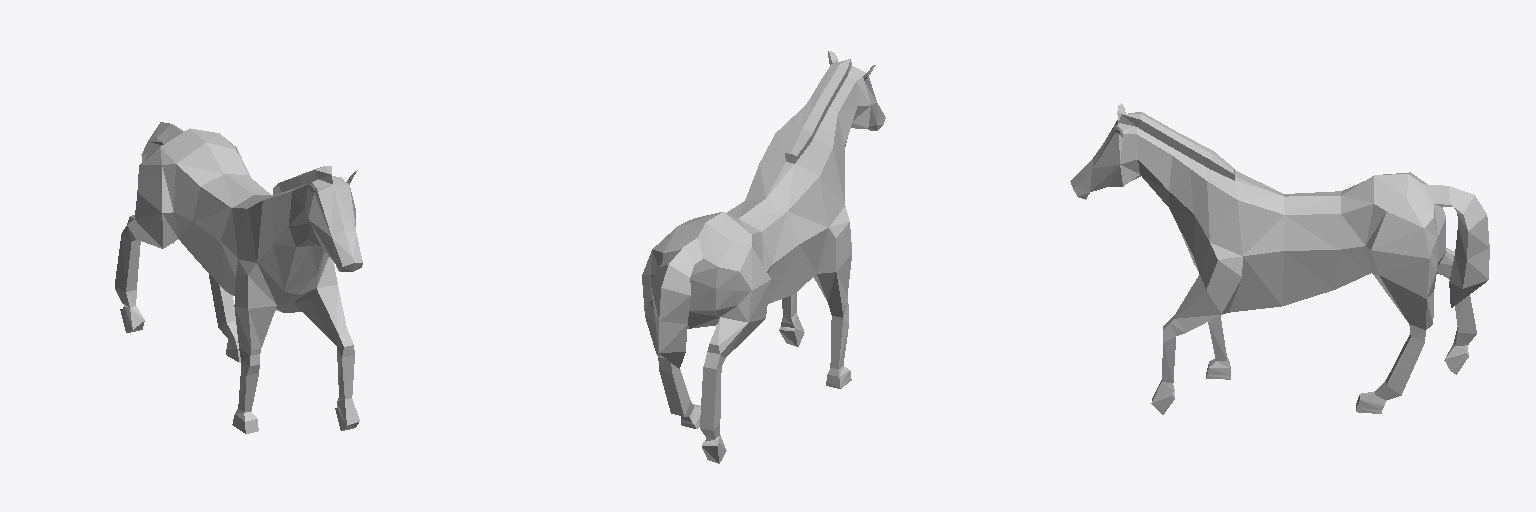
The model's file is Horse3.obj.
3 views of the same model, side by side, from view 1: azimuth 30°, elevation 25°; view 2: azimuth 150°, elevation 25°; view 3: azimuth 270°, elevation 25° (orthographic).
Visible parts, largest first — view 1: Horse; view 2: Horse; view 3: Horse.
Boxes of the visible parts, <box> form: Horse: <box>115,122,362,433</box>; Horse: <box>642,51,885,463</box>; Horse: <box>1070,103,1489,414</box>.
Bounding box in the file's own units: 2.57 × 6.76 × 9.09.